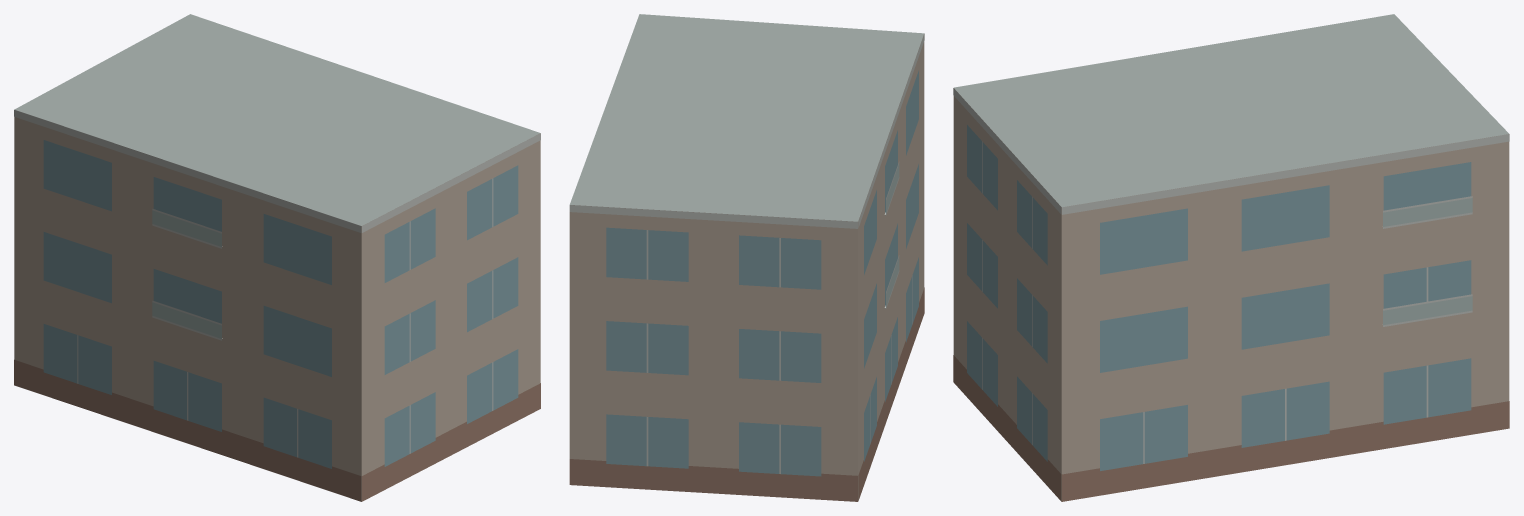
The model's file is survey-upis-32862488.glb.
The picture shows the model from 3 angles, left to right: view 1: azimuth 30°, elevation 25°; view 2: azimuth 150°, elevation 25°; view 3: azimuth 270°, elevation 25°; orthographic projection. The views are drawn at different scales.
Visible parts, largest first — view 1: survey-upis-32862488.tmp; view 2: survey-upis-32862488.tmp; view 3: survey-upis-32862488.tmp.
Part boxes in pixels (bbox=[...]): survey-upis-32862488.tmp: bbox=[14, 14, 540, 501]; survey-upis-32862488.tmp: bbox=[569, 14, 924, 501]; survey-upis-32862488.tmp: bbox=[953, 14, 1509, 501].
Size of the model in its own units: 13.31 by 9.45 by 16.18.
